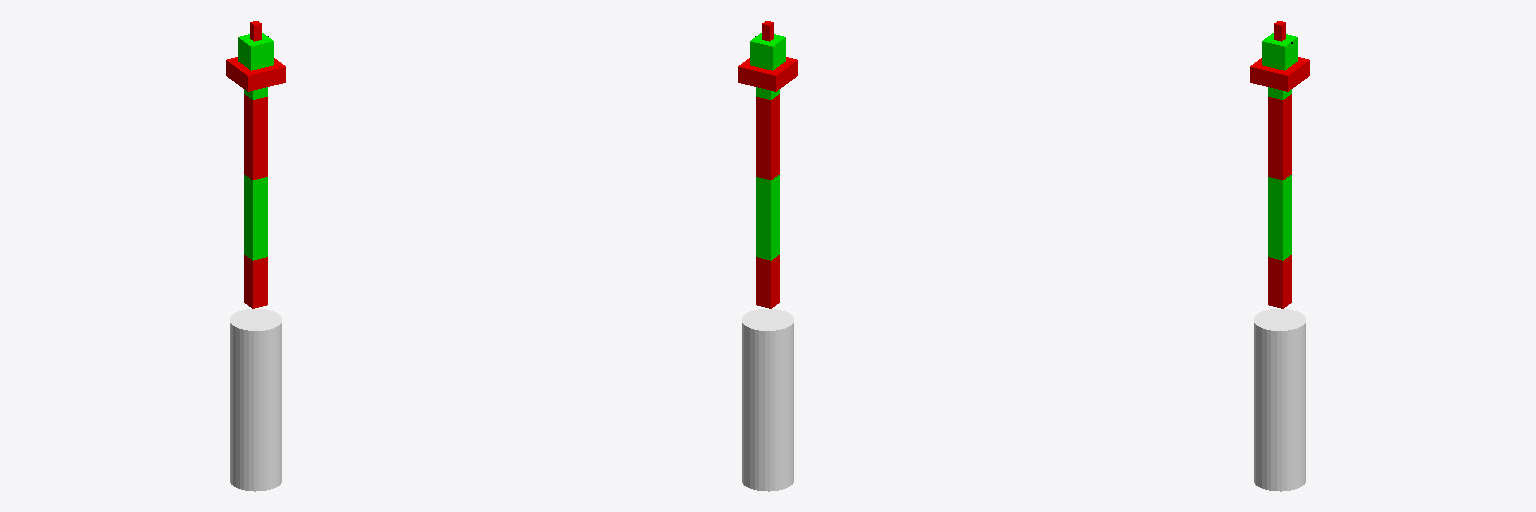
URDF robot description (simple_six_axis_robot):
<?xml version="1.0" ?>
<robot name="simple_six_axis_robot">
  <!-- ===================== base_box - link1 ==============================================-->
  <!-- base_box -->
  <link name="base_link">
    <!--見た目の定義-->
    <visual>
      <!--linkの原点からのオフセット-->
      <origin xyz="0 0 0.5" rpy="0 0 0"/>
      <geometry>
        <!--base_boxのサイズ（見た目）を指定-->
        <cylinder radius="0.15" length="1.0"/>
      </geometry>
      <!--色の指定-->
      <material name="white">
        <color rgba="1 1 1 1"/>
      </material>
    </visual>

    <!--衝突の定義（特段の理由がなければ、基本的にvisualタグと同じ設定でよい-->
    <collision>
      <!--linkの原点からのオフセット-->
      <origin xyz="0 0 0.5" rpy="0 0 0"/>
      <geometry>
        <!--base_boxのサイズ（衝突領域）を指定-->
        <cylinder radius="0.15" length="1.0"/>
      </geometry>
      <!--衝突に関する設定なので、materialタグはない-->
    </collision>

    <!--イナーシャ（慣性）に関する設定-->
    <inertial>
        <!--linkの原点からのオフセット-->
        <origin xyz="0 0 0" rpy="0 0 0" />
        <!--linkの重量-->
        <mass value="1" />
        <!--イナーシャ-->
        <inertia ixx="0.000034533333" 
            ixy="0"  ixz="0"
            iyx="0"  iyy="0.000034533333" 
            iyz="0"
            izx="0"  izy="0"  izz="0.0000648" />
    </inertial>
  </link>

  <!-- link1 -->
  <link name="link1">
    <!--見た目の定義-->
    <visual>
      <origin xyz="0 0 0.15" rpy="0 0 0"/>
      <geometry>
        <box size="0.1 0.1 0.3"/>
      </geometry>
      <material name="red">
        <color rgba="1 0 0 1"/>
      </material>
    </visual>
      
    <!--衝突の定義-->
    <collision>
      <origin xyz="0 0 0.15" rpy="0 0 0"/>
      <geometry>
        <box size="0.1 0.1 0.3"/>
      </geometry>
    </collision>

    <!--イナーシャの定義-->
    <inertial>
        <origin xyz="0 0 0" rpy="0 0 0" />
        <mass value="0.1" />
        <inertia ixx="0.000034533333" 
            ixy="0"  ixz="0"
            iyx="0"  iyy="0.000034533333" 
            iyz="0"
            izx="0"  izy="0"  izz="0.0000648" />
    </inertial>
  </link>

  <!-- joint1 （base_boxリンク と link1リンクをつなぐジョイント）-->
  <joint name="joint1" type="revolute">
  <!-- <joint name="joint1" type="continuous"> -->
    <!--親リンク-->
    <parent link="base_link"/>
    <!--子リンク-->
    <child link="link1"/>
    <!--親リンク原点⇔子リンク原点間の距離-->
    <origin xyz="0 0 1.1" rpy="0 0 0"/>
    <!-- <origin xyz="0 0 1.1" rpy="0 0 3.14"/> -->
    <!-- <origin xyz="0 0 0.9" rpy="0 0 0"/> -->
    <!-- <origin xyz="0 0 1.2" rpy="0 0 0"/> -->
    <!--jointの軸方向-->
    <axis xyz="0 0 1"/>
    <limit lower="-1.57" upper="1.57" effort="10" velocity="10"/>
    <!-- <limit lower="-3.14" upper="3.14" effort="10" velocity="10"/> -->
    <!-- <limit lower="0" upper="3.14" effort="10" velocity="10"/> -->
  </joint>
  <!-- ================================================================================== -->

  <!-- ===================== link1 - link2 ==============================================-->
  <!-- link2 -->
  <link name="link2">
    <!--見た目の定義-->
    <visual>
      <origin xyz="0 0.0 0.25" rpy="0 0 0"/>
      <geometry>
        <box size="0.1 0.1 0.5"/>
      </geometry>
      <material name="green">
        <color rgba="0 1 0 1"/>
      </material>
    </visual>

    <!--衝突の定義-->
    <collision>
      <origin xyz="0 0.0 0.25" rpy="0 0 0"/>
      <geometry>
        <box size="0.1 0.1 0.5"/>
      </geometry>
    </collision>

    <!--イナーシャの定義-->
    <inertial>
        <origin xyz="0 0 0" rpy="0 0 0" />
        <mass value="0.1" />
        <inertia ixx="0.000034533333" 
            ixy="0"  ixz="0"
            iyx="0"  iyy="0.000034533333" 
            iyz="0"
            izx="0"  izy="0"  izz="0.0000648" />
    </inertial>
  </link>

  <!-- joint2 （link1リンク と link2リンク をつなぐジョイント） -->
  <joint name="joint2" type="revolute">
  <!-- <joint name="joint2" type="continuous"> -->
    <parent link="link1"/>
    <child link="link2"/>
    <!-- <origin xyz="0 0.1 0.3" rpy="0 0 0"/> -->
    <origin xyz="0 0 0.3" rpy="0 0 0"/>
    <limit lower="-1.57" upper="1.57" effort="10" velocity="10"/>
    <!-- <limit lower="-3.14" upper="3.14" effort="10" velocity="10"/> -->
    <!-- <limit lower="-1.47" upper="1.47" effort="10" velocity="10"/> -->

    <axis xyz="0 1 0"/>
  </joint>
  <!-- ================================================================== -->

  <!-- ===================== link2 - link3 ==============================================-->
  <!-- link3 -->
  <link name="link3">
    <!--見た目の定義-->
    <visual>
      <origin xyz="0 0.0 0.25" rpy="0 0 0"/>
      <geometry>
        <box size="0.1 0.1 0.5"/>
      </geometry>
      <material name="red">
        <color rgba="1 0 0 1"/>
      </material>
    </visual>

    <!--衝突の定義-->
    <collision>
      <origin xyz="0 0.0 0.25" rpy="0 0 0"/>
      <geometry>
        <box size="0.1 0.1 0.5"/>
      </geometry>
    </collision>

    <!--イナーシャの定義-->
    <inertial>
        <origin xyz="0 0 0" rpy="0 0 0" />
        <mass value="0.1" />
        <inertia ixx="0.000034533333" 
            ixy="0"  ixz="0"
            iyx="0"  iyy="0.000034533333" 
            iyz="0"
            izx="0"  izy="0"  izz="0.0000648" />
    </inertial>
  </link>

  <!-- joint3 （link2リンク と link3リンク をつなぐジョイント） -->
  <joint name="joint3" type="revolute">
  <!-- <joint name="joint3" type="continuous"> -->
    <parent link="link2"/>
    <child link="link3"/>
    <!-- <origin xyz="0 0.1 0.5" rpy="0 0 0"/> -->
    <origin xyz="0 0 0.5" rpy="0 0 0"/>
    <axis xyz="0 1 0"/>
    <!-- <limit lower="-3.14" upper="3.14" effort="10" velocity="10"/> -->
    <limit lower="-1.57" upper="1.57" effort="10" velocity="10"/>
    <!-- <limit lower="-1.47" upper="1.47" effort="10" velocity="10"/> -->

  </joint>
  <!-- ================================================================== -->

  <!-- ===================== link3 - link4 ==============================================-->
  <!-- link4 -->
  <link name="link4">
    <!--見た目の定義-->
    <visual>
      <origin xyz="0 0.0 0.05" rpy="0 0 0"/>
      <geometry>
        <box size="0.1 0.1 0.1"/>
      </geometry>
      <material name="blue">
        <color rgba="0 1 0 1"/>
      </material>
    </visual>

    <!--衝突の定義-->
    <collision>
      <origin xyz="0 0.0 0.05" rpy="0 0 0"/>
      <geometry>
        <box size="0.1 0.1 0.1"/>
      </geometry>
    </collision>

    <!--イナーシャの定義-->
    <inertial>
        <origin xyz="0 0 0" rpy="0 0 0" />
        <mass value="0.1" />
        <inertia ixx="0.000034533333" 
            ixy="0"  ixz="0"
            iyx="0"  iyy="0.000034533333" 
            iyz="0"
            izx="0"  izy="0"  izz="0.0000648" />
    </inertial>
  </link>

  <!-- joint4 （link3リンク と link4リンク をつなぐジョイント） -->
  <joint name="joint4" type="revolute">
  <!-- <joint name="joint3" type="continuous"> -->
    <parent link="link3"/>
    <child link="link4"/>
    <origin xyz="0 0 0.5" rpy="0 0 0"/>
    <axis xyz="0 0 1"/>
    <!-- <limit lower="-3.14" upper="3.14" effort="10" velocity="10"/> -->
    <limit lower="-1.57" upper="1.57" effort="10" velocity="10"/>
    <!-- <limit lower="-1.47" upper="1.47" effort="10" velocity="10"/> -->

  </joint>
  <!-- ================================================================== -->


  <!-- ===================== link4 - link5 ==============================================-->
  <!-- link5 -->
  <link name="link5">
    <!--見た目の定義-->
    <visual>
      <origin xyz="0.0 0 0.05" rpy="0 0 0"/>
      <geometry>
        <box size="0.25 0.25 0.1"/>
      </geometry>
      <material name="red">
        <color rgba="1 0 0 1"/>
      </material>
    </visual>

    <!--衝突の定義-->
    <collision>
      <origin xyz="0.0 0 0.05" rpy="0 0 0"/>
      <geometry>
        <box size="0.25 0.25 0.1"/>
      </geometry>
    </collision>

    <!--イナーシャの定義-->
    <inertial>
        <origin xyz="0 0 0" rpy="0 0 0" />
        <mass value="0.1" />
        <inertia ixx="0.000034533333" 
            ixy="0"  ixz="0"
            iyx="0"  iyy="0.000034533333" 
            iyz="0"
            izx="0"  izy="0"  izz="0.0000648" />
    </inertial>
  </link>

  <!-- joint5 （link4リンク と link5リンク をつなぐジョイント） -->
  <joint name="joint5" type="revolute">
  <!-- <joint name="joint3" type="continuous"> -->
    <parent link="link4"/>
    <child link="link5"/>
    <!-- <origin xyz="0 0.175 0.25" rpy="0 0 0"/> -->
    <origin xyz="0 0 0.1" rpy="0 0 0"/>
    <axis xyz="0 1 0"/>
    <!-- <limit lower="-3.14" upper="3.14" effort="10" velocity="10"/> -->
    <limit lower="-1.57" upper="1.57" effort="10" velocity="10"/>
    <!-- <limit lower="-1.47" upper="1.47" effort="10" velocity="10"/> -->

  </joint>
  <!-- ================================================================== -->

  <!-- ===================== link5 - link6 ==============================================-->
  <!-- link6 -->
  <link name="link6">
    <!--見た目の定義-->
    <visual>
      <origin xyz="0 0.0 0.075" rpy="0 0 0"/>
      <geometry>
        <box size="0.15 0.15 0.15"/>
      </geometry>
      <material name="blue">
        <color rgba="0 1 0 1"/>
      </material>
    </visual>

    <!--衝突の定義-->
    <collision>
      <origin xyz="0 0.0 0.075" rpy="0 0 0"/>
      <geometry>
        <box size="0.15 0.15 0.15"/>
      </geometry>
    </collision>

    <!--イナーシャの定義-->
    <inertial>
        <origin xyz="0 0 0" rpy="0 0 0" />
        <mass value="0.1" />
        <inertia ixx="0.000034533333" 
            ixy="0"  ixz="0"
            iyx="0"  iyy="0.000034533333" 
            iyz="0"
            izx="0"  izy="0"  izz="0.0000648" />
    </inertial>
  </link>

  <!-- joint6 （link5リンク と link6リンク をつなぐジョイント） -->
  <joint name="joint6" type="revolute">
  <!-- <joint name="joint3" type="continuous"> -->
    <parent link="link5"/>
    <child link="link6"/>
    <origin xyz="0 0 0.1" rpy="0 0 0"/>
    <axis xyz="0 0 1"/>
    <!-- <limit lower="-3.14" upper="3.14" effort="10" velocity="10"/> -->
    <limit lower="-1.57" upper="1.57" effort="10" velocity="10"/>
    <!-- <limit lower="-1.47" upper="1.47" effort="10" velocity="10"/> -->

  </joint>
  <!-- ================================================================== -->


  <link name="camera_link">
    <!--見た目の定義-->
    <visual>
      <origin xyz="0.0 0.0 0.0" rpy="0 0 0"/>
      <geometry>
        <box size="0.01 0.01 0.01"/>
      </geometry>
      <material name="black">
        <color rgba="0 0 0 1"/>
      </material>
    </visual>

    <!--衝突の定義-->
    <collision>
      <origin xyz="0.0 0.0 0.0" rpy="0 0 0"/>
      <geometry>
        <box size="0.01 0.01 0.01"/>
      </geometry>
    </collision>

    <!--イナーシャの定義-->
    <inertial>
        <origin xyz="0 0 0" rpy="0 0 0" />
        <mass value="0.0001" />
        <inertia ixx="0.000034533333" 
            ixy="0"  ixz="0"
            iyx="0"  iyy="0.000034533333" 
            iyz="0"
            izx="0"  izy="0"  izz="0.0000648" />
    </inertial>
  </link>

  <joint name="camera_joint" type="fixed">
    <parent link="link6"/>
    <child link="camera_link"/>
    <origin xyz="0.08 0 0.145" rpy="0 0 0"/>
    <axis xyz="0 0 1"/>
  </joint>

  <!--pybulletでカメラの目標地点として設定する用の仮想的なlink-->
  <link name="target_position_vertual_link"/>

  <joint name="camera_target_joint" type="fixed">
    <parent link="camera_link"/>
    <child link="target_position_vertual_link"/>
    <origin xyz="0.0 0.0 0.01" rpy="0 0 0"/>
    <axis xyz="0 0 1"/>
  </joint>

  <!-- gripper left link ###############################################################-->
  <!-- gripper left link -->
  <link name="gripper_left_link">
    <!--見た目の定義-->
    <visual>
      <origin xyz="0 0.0 0.025" rpy="0 0 0"/>
      <geometry>
        <box size="0.05 0.025 0.1"/>
      </geometry>
      <material name="red">
        <color rgba="1 0 0 1"/>
      </material>
    </visual>

    <!--衝突の定義-->
    <collision>
      <origin xyz="0 0.0 0.025" rpy="0 0 0"/>
      <geometry>
        <box size="0.05 0.05 0.05"/>
      </geometry>
    </collision>

    <!--イナーシャの定義-->
    <inertial>
        <origin xyz="0 0 0" rpy="0 0 0" />
        <mass value="0.0001" />
        <inertia ixx="0.000034533333" 
            ixy="0"  ixz="0"
            iyx="0"  iyy="0.000034533333" 
            iyz="0"
            izx="0"  izy="0"  izz="0.0000648" />
    </inertial>
  </link>

  <joint name="gripper_left_joint" type="prismatic">
    <parent link="link6"/>
    <child link="gripper_left_link"/>
    <origin xyz="0.0 -0.0125 0.175" rpy="0 0 0"/>
    <axis xyz="0 -1 0"/>
    <limit effort="20" lower="0.0" upper="0.04" velocity="0.2"/>
  </joint>

  <!-- gripper right link ###############################################################-->
  <!-- gripper right link -->
  <link name="gripper_right_link">
    <!--見た目の定義-->
    <visual>
      <origin xyz="0 0.0 0.025" rpy="0 0 0"/>
      <geometry>
        <box size="0.05 0.025 0.1"/>
      </geometry>
      <material name="red">
        <color rgba="1 0 0 1"/>
      </material>
    </visual>

    <!--衝突の定義-->
    <collision>
      <origin xyz="0 0.0 0.025" rpy="0 0 0"/>
      <geometry>
        <box size="0.05 0.05 0.05"/>
      </geometry>
    </collision>

    <!--イナーシャの定義-->
    <inertial>
        <origin xyz="0 0 0" rpy="0 0 0" />
        <mass value="0.0001" />
        <inertia ixx="0.000034533333" 
            ixy="0"  ixz="0"
            iyx="0"  iyy="0.000034533333" 
            iyz="0"
            izx="0"  izy="0"  izz="0.0000648" />
    </inertial>
  </link>

  <joint name="gripper_right_joint" type="prismatic">
    <parent link="link6"/>
    <child link="gripper_right_link"/>
    <origin xyz="0.0 0.0125 0.175" rpy="0 0 0"/>
    <axis xyz="0 1 0"/>
    <limit effort="20" lower="0.0" upper="0.04" velocity="0.2"/>
    <mimic joint="panda_finger_joint1"/>
  </joint>
</robot>

--- Render facts (derived) ---
The picture shows the robot from 3 angles, left to right: view 1: azimuth 30°, elevation 25°; view 2: azimuth 150°, elevation 25°; view 3: azimuth 330°, elevation 25°; orthographic projection.
Robot: simple_six_axis_robot — 11 links, 10 joints (6 revolute, 2 prismatic, 2 fixed); root link base_link; default pose: all joints at 0.
Visible links, largest first — view 1: base_link, link2, link3, link5, link1, link6; view 2: base_link, link2, link3, link5, link1, link6; view 3: base_link, link2, link3, link5, link1, link6.
Boxes of the visible links, x1,y1,x2,y2 form: base_link: [230, 309, 281, 491]; link2: [244, 175, 267, 260]; link3: [244, 94, 267, 179]; link5: [226, 57, 285, 91]; link1: [244, 255, 267, 308]; link6: [238, 33, 273, 70]; base_link: [742, 309, 793, 491]; link2: [756, 175, 779, 260]; link3: [756, 94, 779, 179]; link5: [738, 57, 797, 91]; link1: [756, 255, 779, 308]; link6: [750, 33, 785, 70]; base_link: [1254, 309, 1305, 491]; link2: [1268, 175, 1291, 260]; link3: [1268, 94, 1291, 179]; link5: [1250, 57, 1309, 91]; link1: [1268, 255, 1291, 308]; link6: [1262, 33, 1297, 70].
Size in the robot's own frame: 0.3 by 0.3 by 2.85 metres.
Geometry: primitives only (box / cylinder / sphere), no mesh files.
